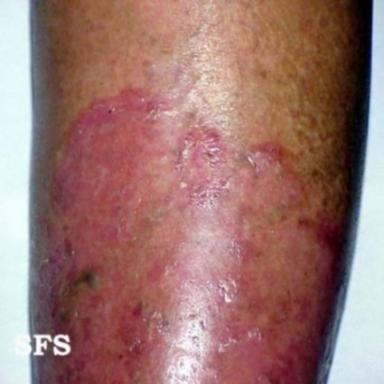Tinea-Corporis: (36, 86, 335, 383)
